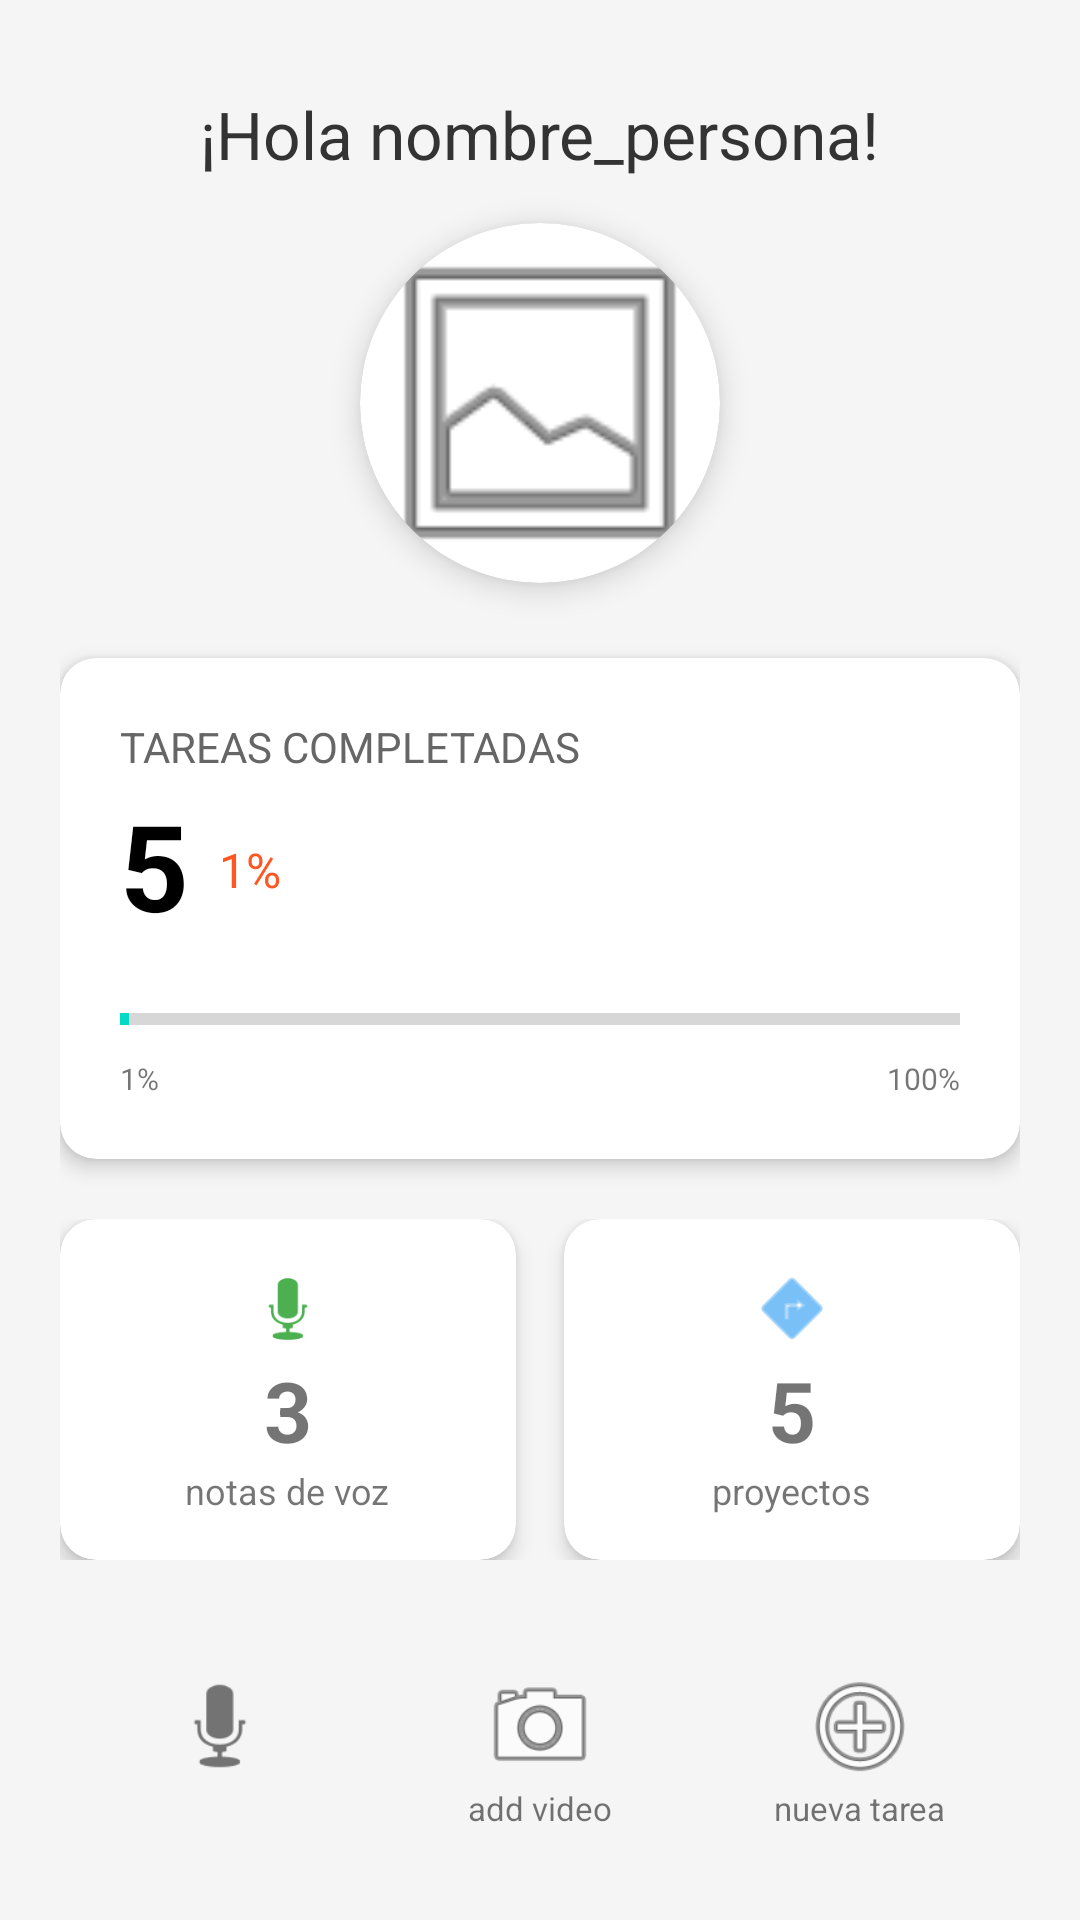

Named icons in this screenshot (1080px×1920px) and their bounding boxes, (x1, y1, x2, y2):
add: (815, 1682, 905, 1771)
camera: (494, 1687, 586, 1761)
directions: (761, 1278, 823, 1339)
gallery: (360, 223, 720, 583)
speak now: (268, 1278, 308, 1340), (194, 1684, 246, 1768)
